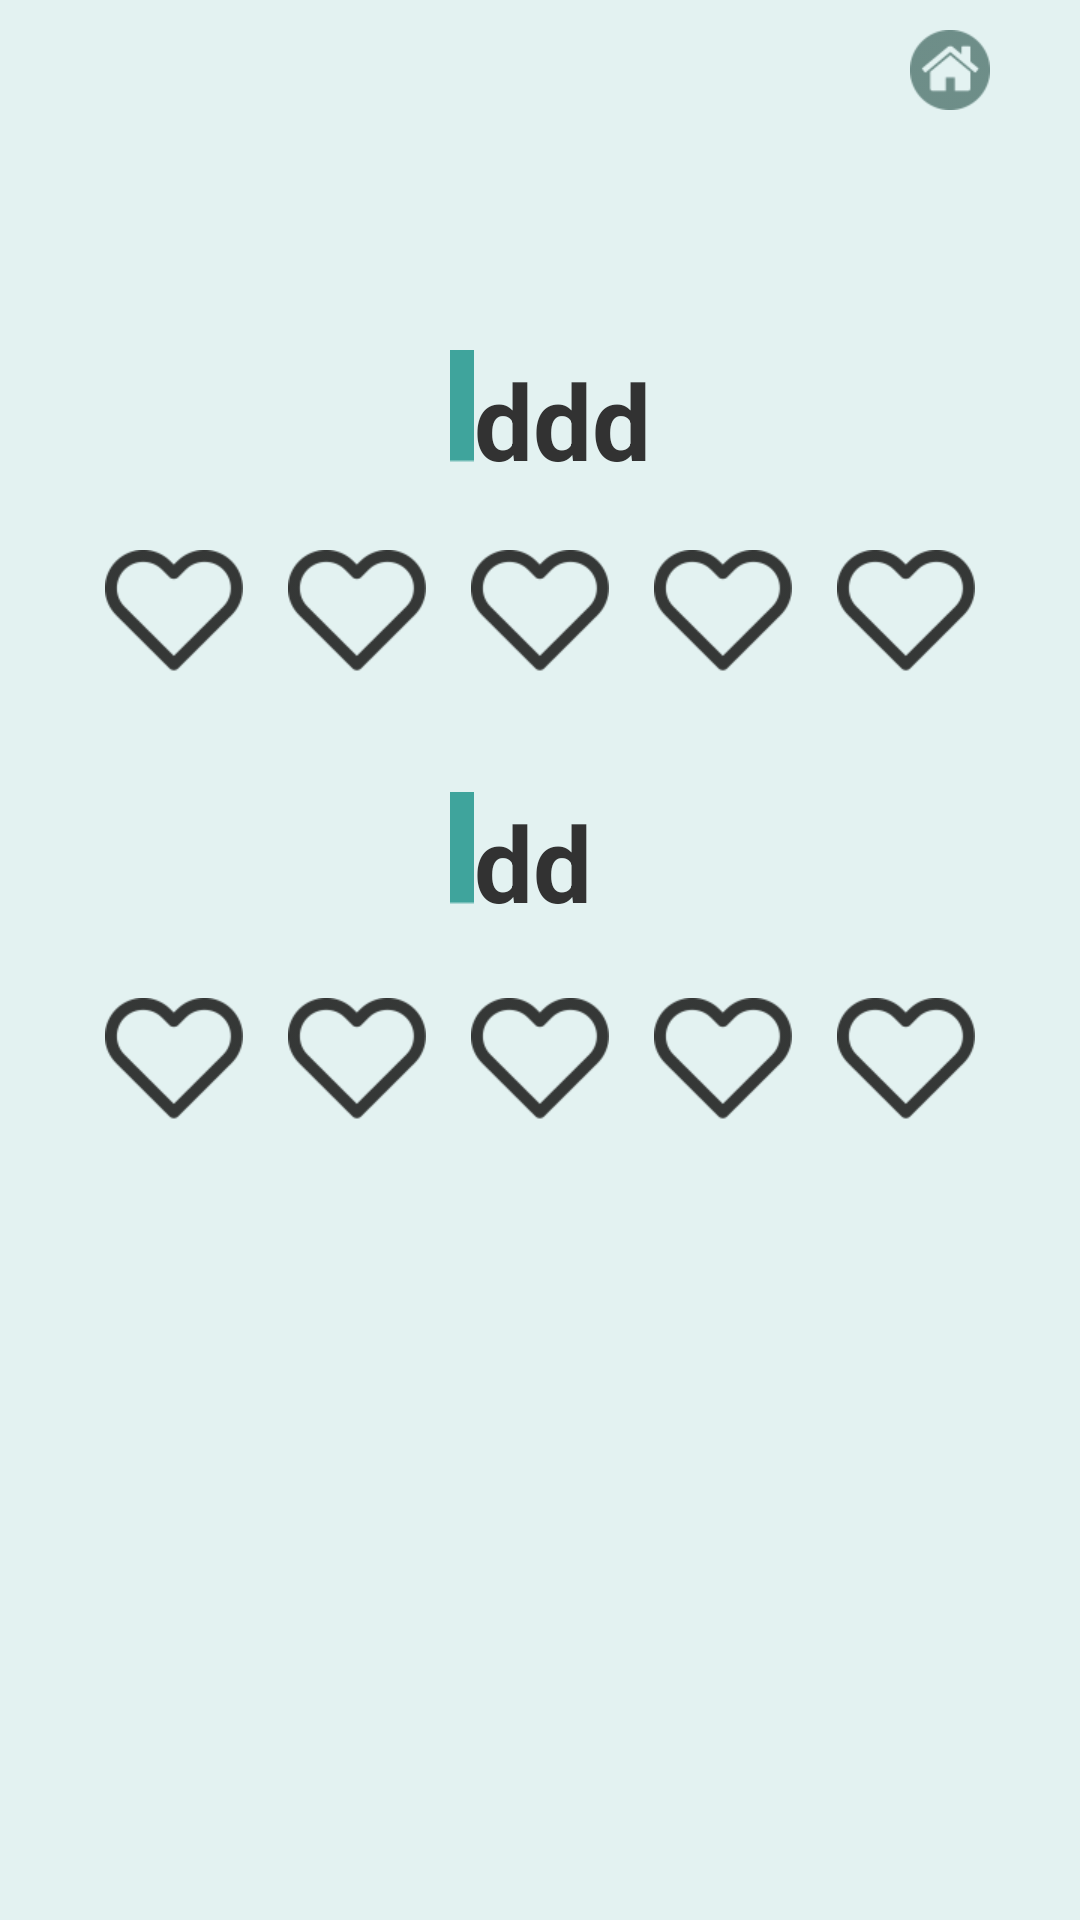

Icon bounding boxes for this 1080*1920 phone screenshot, format (x1, y1, x2, y2):
home: (910, 30, 990, 110)
